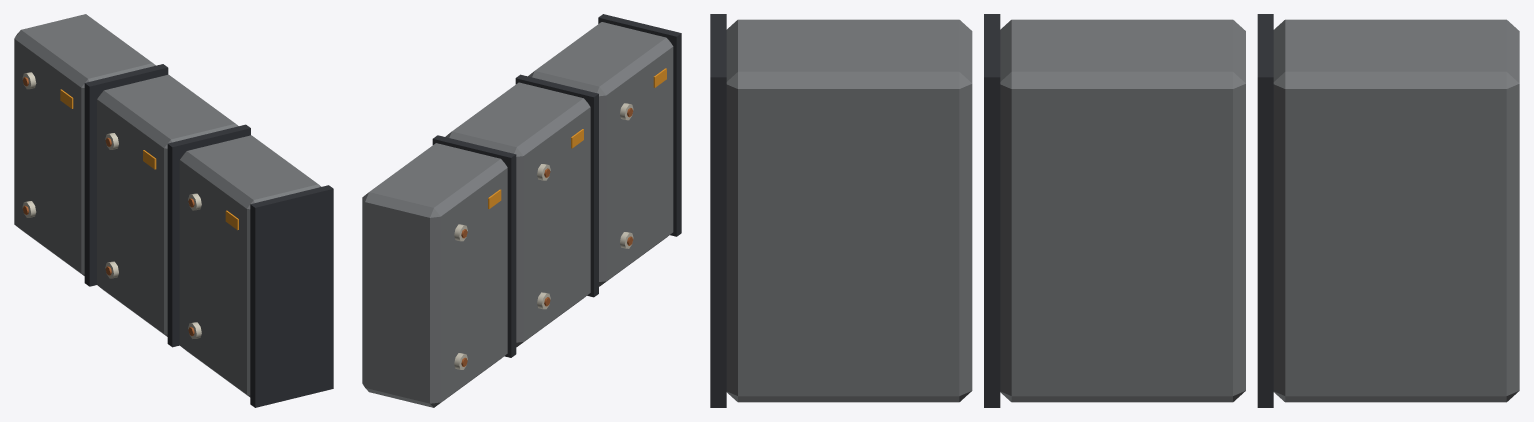
Rendered from sr150_cells.obj.
3 views of the same model, side by side, from view 1: azimuth 30°, elevation 25°; view 2: azimuth 150°, elevation 25°; view 3: azimuth 270°, elevation 25° (orthographic). The views are drawn at different scales.
Parts seen in each view (by area): view 1: sr150_cells; view 2: sr150_cells; view 3: sr150_cells.
Part boxes in pixels (bbox=[...]): sr150_cells: bbox=[14, 14, 333, 407]; sr150_cells: bbox=[362, 14, 681, 407]; sr150_cells: bbox=[710, 14, 1519, 407].
Bounding box in the file's own units: 0.25 × 0.56 × 1.24.
